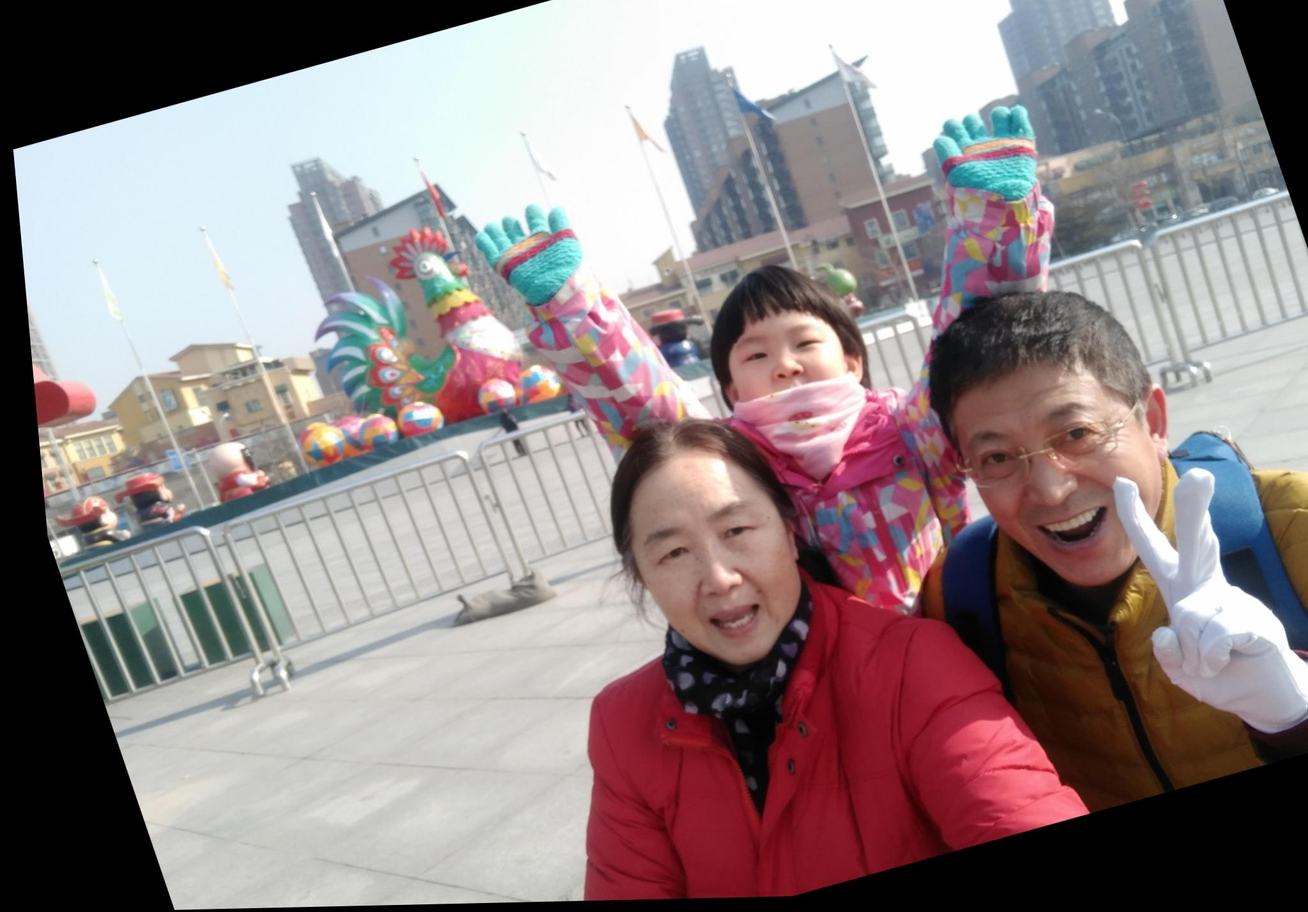NONE: (939, 384, 1180, 610), (612, 489, 807, 676)
WRONG: (703, 311, 863, 463)
